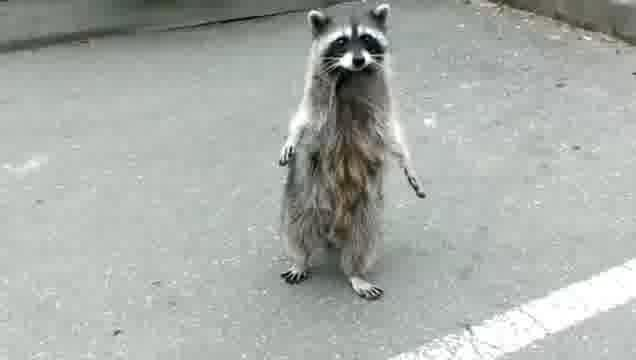raccoon: (276, 0, 426, 300)
